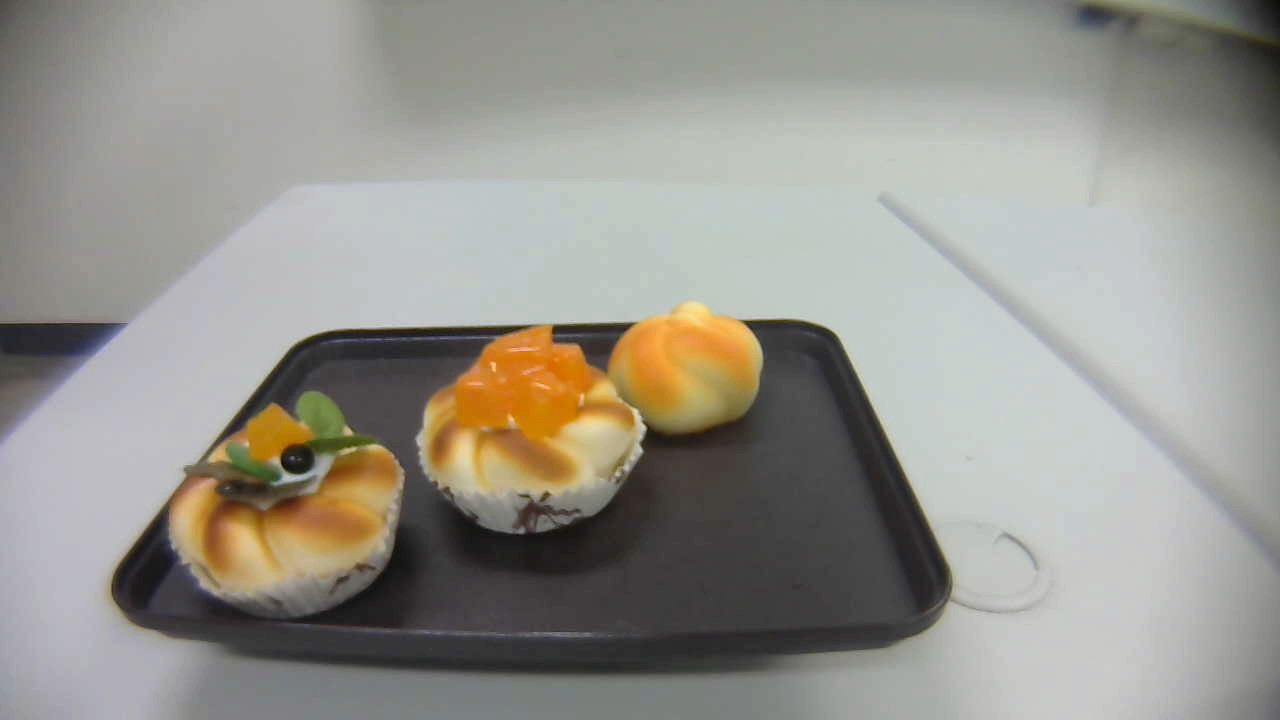fruit tart: (169, 391, 404, 619)
mango tart: (417, 323, 648, 533)
twist bread: (606, 299, 764, 436)
